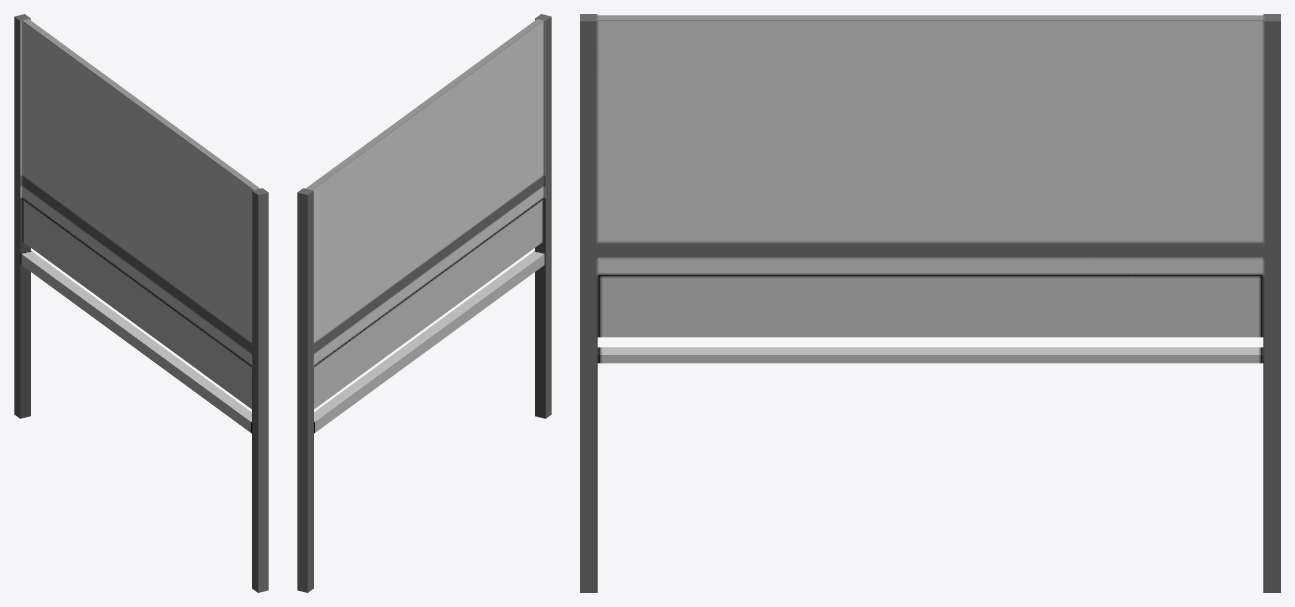
Rendered from board1.glb.
3 views of the same model, side by side, from view 1: azimuth 30°, elevation 25°; view 2: azimuth 150°, elevation 25°; view 3: azimuth 270°, elevation 25° (orthographic). The views are drawn at different scales.
Parts seen in each view (by area): view 1: Node1; view 2: Node1; view 3: Node1.
Boxes of the visible parts, x1=… form: Node1: x1=14, y1=14, x2=268, y2=592; Node1: x1=297, y1=14, x2=551, y2=592; Node1: x1=580, y1=14, x2=1280, y2=592.
Size of the model in its own units: 0.05 by 1.8 by 2.
1 material, 1 textured.
